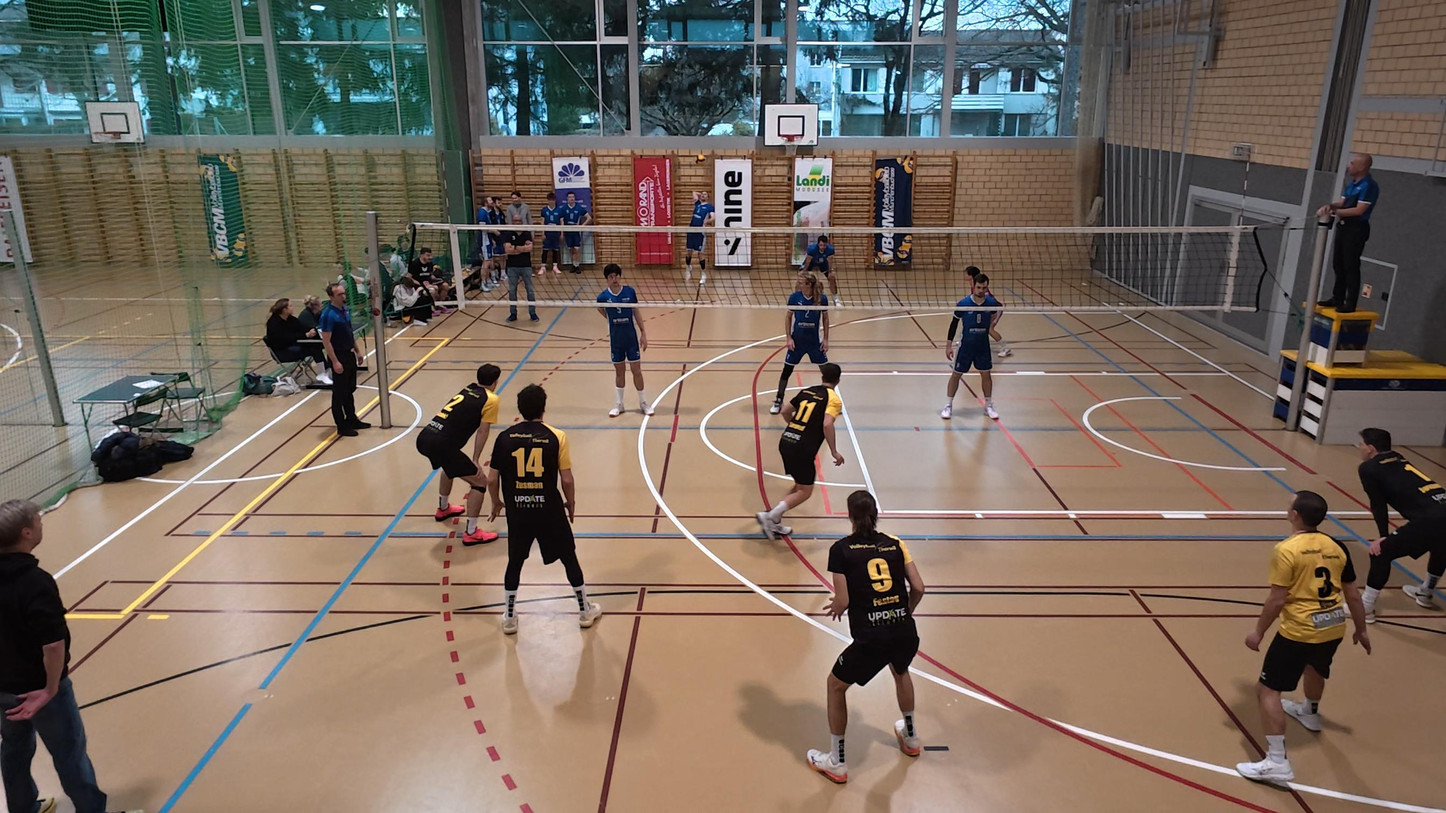battuta: (681, 178, 715, 285)
